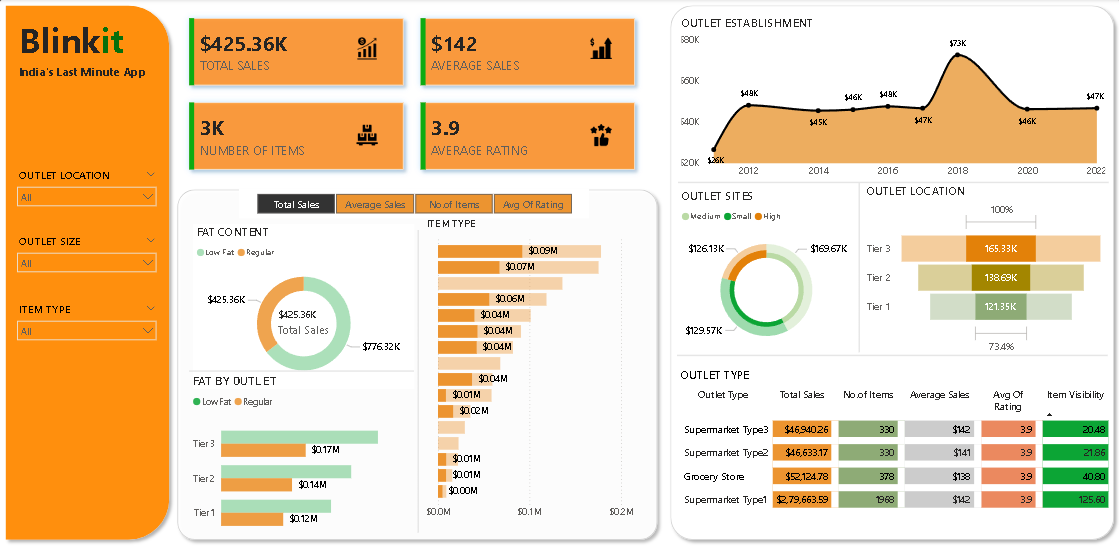

The dashboard page shown, as its layout file describes it:
{"tool":"powerbi","page":{"name":"Page 1","canvas":[1570,770],"ordinal":0},"visuals":[{"type":"shape","box":[0,0,247.5,766.1],"z":0},{"type":"textbox","box":[22,18.6,232.2,132.2],"z":1000},{"type":"textbox","box":[22,84.7,244.1,33.9],"z":2000},{"type":"cardVisual","fields":{"Data":["BlinkIT Grocery Data.Total Sales","BlinkIT Grocery Data.Average Sales","BlinkIT Grocery Data.No.of Items","BlinkIT Grocery Data.Avg Of Rating"]},"box":[249.2,10.2,659.3,247.5],"z":3000},{"type":"image","box":[498.3,52.5,33.9,32.2],"z":4000},{"type":"image","box":[825.4,174.6,33.9,30.5],"z":5000},{"type":"image","box":[498.3,174.6,33.9,30.5],"z":6000},{"type":"image","box":[825.4,52.5,33.9,32.2],"z":7000},{"type":"shape","box":[240.7,257.6,689.8,508.5],"z":8000},{"type":"donutChart","title":"FAT CONTENT","fields":{"Y":["BlinkIT Grocery Data.Total Sales"],"Category":["BlinkIT Grocery Data.Item Fat Content"]},"box":[271.2,315.3,310.2,230.5],"z":9000},{"type":"slicer","fields":{"Values":["Matrics.Matrics"]},"box":[335.6,266.1,489.8,40.7],"z":10000},{"type":"cardVisual","fields":{"Data":["BlinkIT Grocery Data.Total Sales"]},"box":[370,418.6,123.7,67.8],"z":11000},{"type":"clusteredBarChart","title":"FAT BY OUTLET","fields":{"Y":["BlinkIT Grocery Data.Total Sales"],"Category":["BlinkIT Grocery Data.Outlet Location Type"],"Series":["BlinkIT Grocery Data.Item Fat Content"]},"box":[266.1,525.4,320.3,239],"z":12000},{"type":"shape","box":[266.1,511.9,315.3,16.9],"z":13000},{"type":"shape","box":[581.4,323.7,11.9,423.7],"z":14000},{"type":"barChart","title":"ITEM TYPE","fields":{"Y":["BlinkIT Grocery Data.Total Sales"],"Category":["BlinkIT Grocery Data.Item Type"]},"box":[593.2,306.8,315.3,428.8],"z":15000},{"type":"shape","box":[930.5,0,639,766.1],"z":16000},{"type":"lineChart","title":"OUTLET ESTABLISHMENT","fields":{"Y":["BlinkIT Grocery Data.Total Sales"],"Category":["BlinkIT Grocery Data.Outlet Establishment Year"]},"box":[950.8,22,603.4,235.6],"z":17000},{"type":"shape","box":[950.8,249.2,603.4,15.3],"z":18000},{"type":"donutChart","title":"OUTLET SITES","fields":{"Y":["BlinkIT Grocery Data.Total Sales"],"Category":["BlinkIT Grocery Data.Outlet Size"]},"box":[950.8,264.4,247.5,237.3],"z":19000},{"type":"shape","box":[1198.3,257.6,11.9,237.3],"z":20000},{"type":"funnel","title":"OUTLET LOCATION","fields":{"Y":["Sum(BlinkIT Grocery Data.Sales)"],"Category":["BlinkIT Grocery Data.Outlet Location Type"]},"box":[1210.2,257.6,342.4,244.1],"z":21000},{"type":"pivotTable","title":"OUTLET TYPE","fields":{"Rows":["BlinkIT Grocery Data.Outlet Type"],"Values":["BlinkIT Grocery Data.Total Sales","BlinkIT Grocery Data.No.of Items","BlinkIT Grocery Data.Average Sales","BlinkIT Grocery Data.Avg Of Rating","Sum(BlinkIT Grocery Data.Item Visibility)"]},"box":[949.2,515.3,620.3,228.8],"z":22000},{"type":"shape","box":[949.2,494.9,603.4,6.8],"z":23000},{"type":"slicer","fields":{"Values":["BlinkIT Grocery Data.Outlet Location Type"]},"box":[15.3,230.5,215.3,67.8],"z":24000},{"type":"slicer","fields":{"Values":["BlinkIT Grocery Data.Outlet Size"]},"box":[15.3,323.7,215.3,66.1],"z":25000},{"type":"slicer","fields":{"Values":["BlinkIT Grocery Data.Item Type"]},"box":[15.3,418.6,215.3,67.8],"z":26000}]}

Visuals, with their boxes in screenshot pixels (x1, y1, x2, y2), scaled from the page's 1570x770 canvas onto the 1119x546 screenshot:
shape: box=[0, 0, 176, 543]
textbox: box=[16, 13, 181, 107]
textbox: box=[16, 60, 190, 84]
cardVisual - BlinkIT Grocery Data.Total Sales x BlinkIT Grocery Data.Average Sales: box=[178, 7, 648, 183]
image: box=[355, 37, 379, 60]
image: box=[588, 124, 612, 145]
image: box=[355, 124, 379, 145]
image: box=[588, 37, 612, 60]
shape: box=[172, 183, 663, 543]
"FAT CONTENT" donutChart: box=[193, 224, 414, 387]
slicer - Matrics.Matrics: box=[239, 189, 588, 218]
cardVisual - BlinkIT Grocery Data.Total Sales: box=[264, 297, 352, 345]
"FAT BY OUTLET" clusteredBarChart: box=[190, 373, 418, 542]
shape: box=[190, 363, 414, 375]
shape: box=[414, 230, 423, 530]
"ITEM TYPE" barChart: box=[423, 218, 648, 522]
shape: box=[663, 0, 1118, 543]
"OUTLET ESTABLISHMENT" lineChart: box=[678, 16, 1108, 183]
shape: box=[678, 177, 1108, 188]
"OUTLET SITES" donutChart: box=[678, 187, 854, 356]
shape: box=[854, 183, 863, 351]
"OUTLET LOCATION" funnel: box=[863, 183, 1107, 356]
"OUTLET TYPE" pivotTable: box=[677, 365, 1118, 528]
shape: box=[677, 351, 1107, 356]
slicer - BlinkIT Grocery Data.Outlet Location Type: box=[11, 163, 164, 212]
slicer - BlinkIT Grocery Data.Outlet Size: box=[11, 230, 164, 276]
slicer - BlinkIT Grocery Data.Item Type: box=[11, 297, 164, 345]
